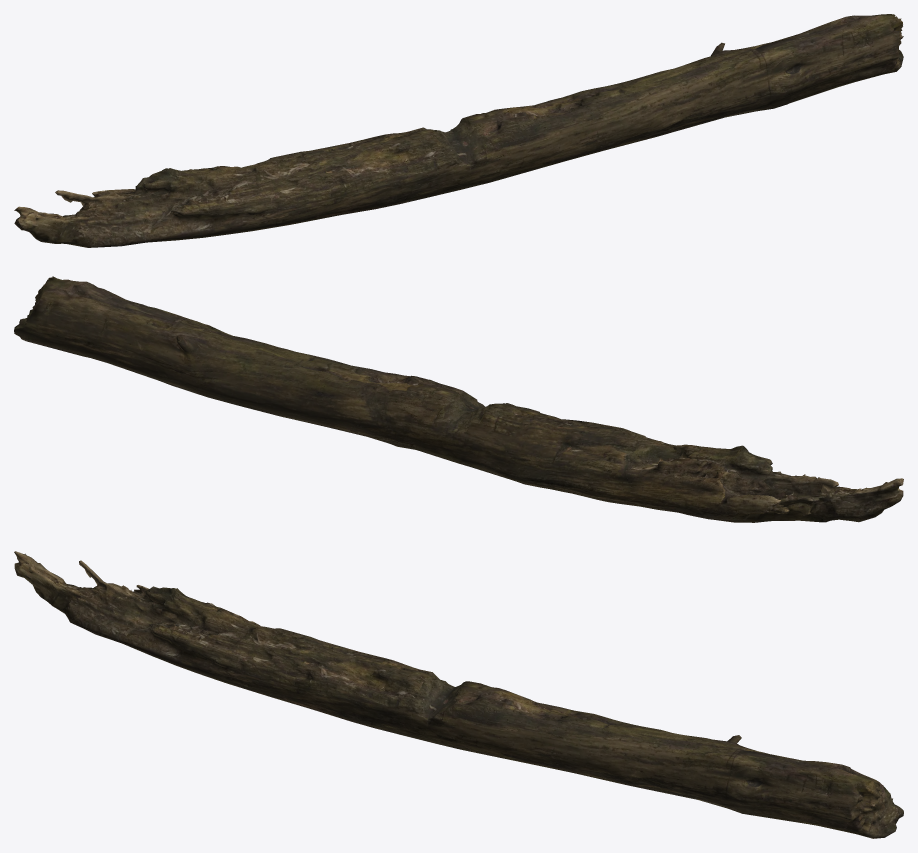
The model's file is dead-tree-trunk.glb.
3 views of the same model, one above another, from view 1: azimuth 30°, elevation 25°; view 2: azimuth 150°, elevation 25°; view 3: azimuth 330°, elevation 25° (orthographic).
Visible parts, largest first — view 1: dead_tree_trunk; view 2: dead_tree_trunk; view 3: dead_tree_trunk.
Boxes of the visible parts, bbox=[...] form: dead_tree_trunk: bbox=[14, 14, 903, 247]; dead_tree_trunk: bbox=[14, 276, 903, 522]; dead_tree_trunk: bbox=[14, 551, 903, 838].
Bounding box in the file's own units: 3.05 × 0.2898 × 0.2775.
Materials: 1 (1 with a texture image).
